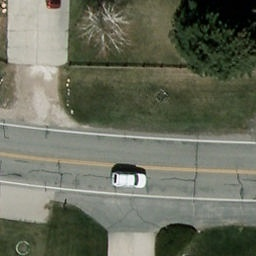car: (113, 174, 148, 189)
